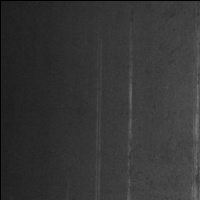scratches: (124, 25, 136, 197), (92, 39, 104, 200)
